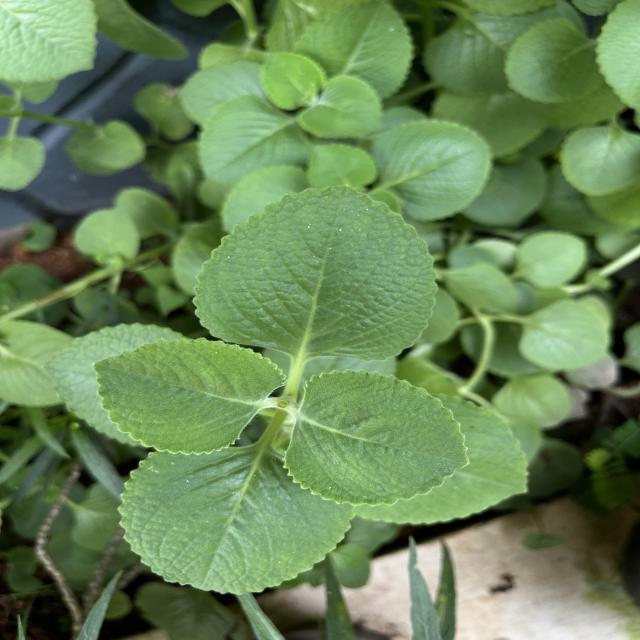Plectranthus barbatus: (190, 182, 438, 362), (116, 449, 358, 597), (280, 368, 472, 508), (92, 336, 290, 457)
